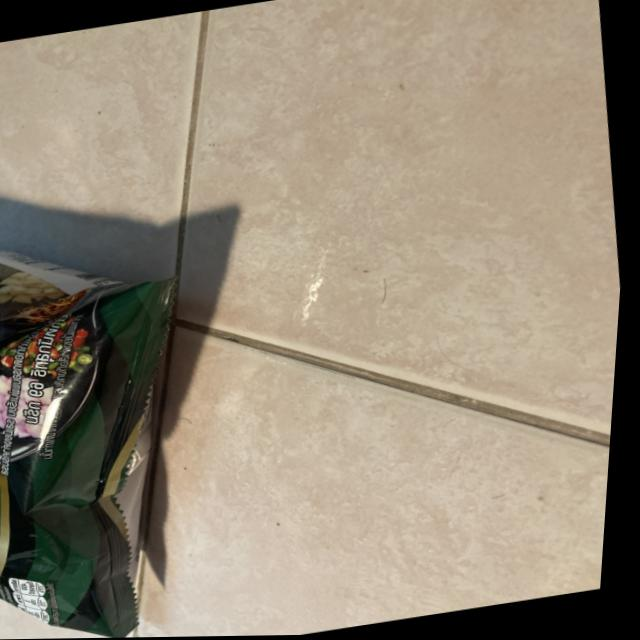Laygreen: (0, 193, 240, 640)
